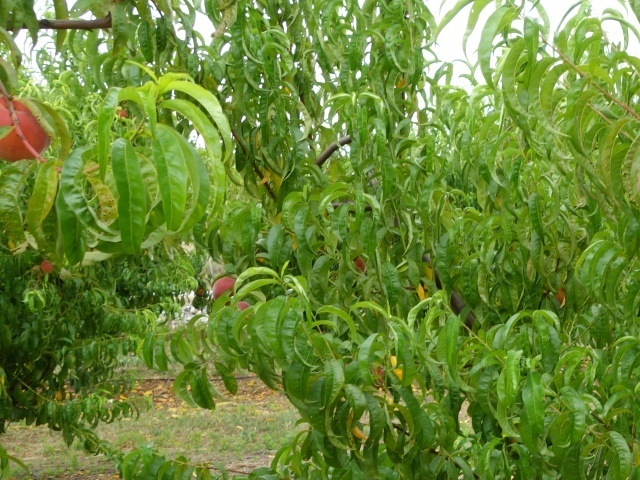peach: (1, 93, 56, 166), (207, 271, 244, 304)
